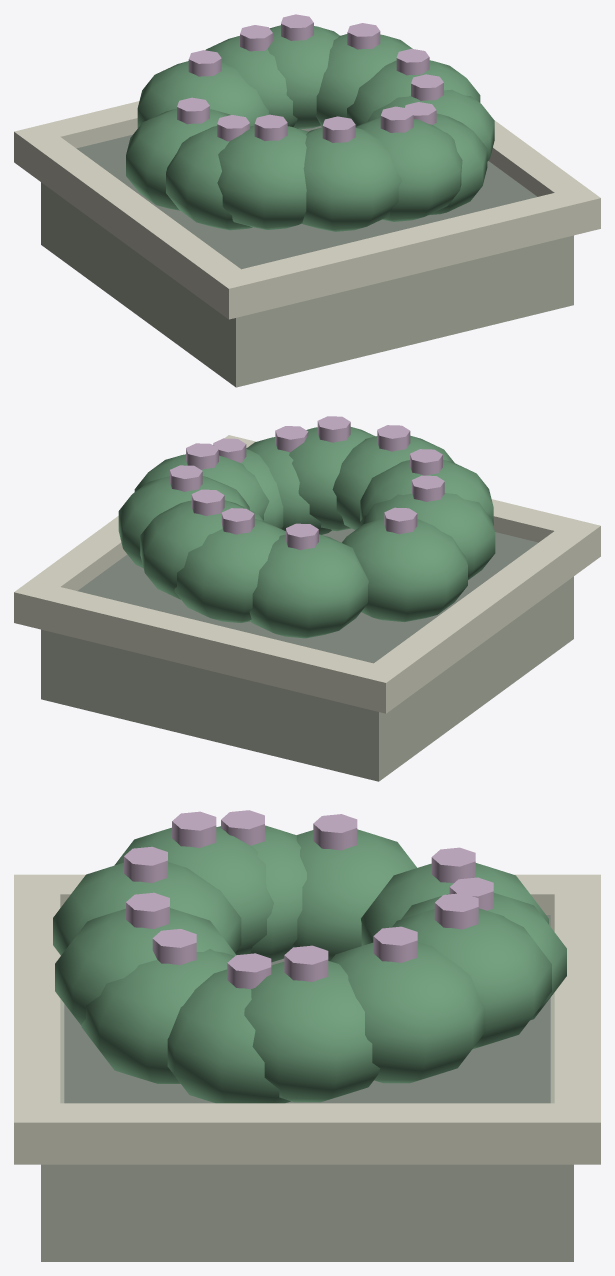
The model's file is civic_planter.glb.
3 views of the same model, one above another, from view 1: azimuth 30°, elevation 25°; view 2: azimuth 150°, elevation 25°; view 3: azimuth 270°, elevation 25° (orthographic). The views are drawn at different scales.
Visible parts, largest first — view 1: SourceMesh_00000, SourceMesh_00004, SourceMesh_00001, SourceMesh_00005, SourceMesh_00018, SourceMesh_00008, SourceMesh_00028, SourceMesh_00020, SourceMesh_00024, SourceMesh_00003, SourceMesh_00014, SourceMesh_00016 (+18 smaller); view 2: SourceMesh_00000, SourceMesh_00002, SourceMesh_00001, SourceMesh_00020, SourceMesh_00014, SourceMesh_00005, SourceMesh_00010, SourceMesh_00026, SourceMesh_00024, SourceMesh_00003, SourceMesh_00028, SourceMesh_00018 (+18 smaller); view 3: SourceMesh_00000, SourceMesh_00003, SourceMesh_00005, SourceMesh_00016, SourceMesh_00006, SourceMesh_00002, SourceMesh_00004, SourceMesh_00012, SourceMesh_00026, SourceMesh_00022, SourceMesh_00014, SourceMesh_00028 (+18 smaller).
Part boxes in pixels (left/top/right/bottom): SourceMesh_00000: left=41, top=182, right=573, bottom=387; SourceMesh_00004: left=212, top=185, right=600, bottom=318; SourceMesh_00001: left=14, top=125, right=258, bottom=319; SourceMesh_00005: left=76, top=126, right=537, bottom=269; SourceMesh_00018: left=301, top=127, right=401, bottom=231; SourceMesh_00008: left=217, top=125, right=307, bottom=229; SourceMesh_00028: left=355, top=117, right=462, bottom=221; SourceMesh_00020: left=137, top=61, right=268, bottom=128; SourceMesh_00024: left=166, top=126, right=252, bottom=230; SourceMesh_00003: left=488, top=120, right=600, bottom=235; SourceMesh_00014: left=126, top=108, right=230, bottom=210; SourceMesh_00016: left=315, top=34, right=412, bottom=127; SourceMesh_00000: left=41, top=576, right=573, bottom=781; SourceMesh_00002: left=14, top=580, right=402, bottom=713; SourceMesh_00001: left=356, top=518, right=600, bottom=713; SourceMesh_00020: left=249, top=534, right=368, bottom=638; SourceMesh_00014: left=342, top=519, right=467, bottom=621; SourceMesh_00005: left=77, top=528, right=538, bottom=663; SourceMesh_00010: left=174, top=519, right=285, bottom=622; SourceMesh_00026: left=140, top=500, right=263, bottom=599; SourceMesh_00024: left=360, top=493, right=495, bottom=579; SourceMesh_00003: left=14, top=435, right=256, bottom=629; SourceMesh_00028: left=289, top=427, right=374, bottom=531; SourceMesh_00018: left=332, top=435, right=454, bottom=529; SourceMesh_00000: left=41, top=955, right=573, bottom=1261; SourceMesh_00003: left=14, top=1103, right=600, bottom=1164; SourceMesh_00005: left=64, top=915, right=550, bottom=1103; SourceMesh_00016: left=330, top=942, right=484, bottom=1083; SourceMesh_00006: left=244, top=961, right=380, bottom=1102; SourceMesh_00002: left=554, top=874, right=600, bottom=1164; SourceMesh_00004: left=14, top=874, right=60, bottom=1164; SourceMesh_00012: left=81, top=949, right=234, bottom=1083; SourceMesh_00026: left=392, top=908, right=551, bottom=1049; SourceMesh_00022: left=167, top=969, right=290, bottom=1103; SourceMesh_00014: left=292, top=829, right=416, bottom=961; SourceMesh_00028: left=55, top=908, right=236, bottom=1025.
Bounding box in the file's own units: 1.52 × 0.7897 × 1.52.
